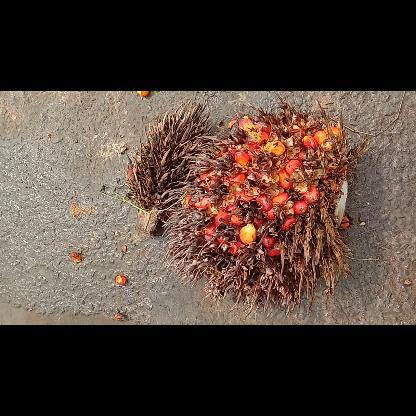Janjang kosong: (122, 99, 210, 235)
Terlalu masak: (162, 91, 356, 317)
